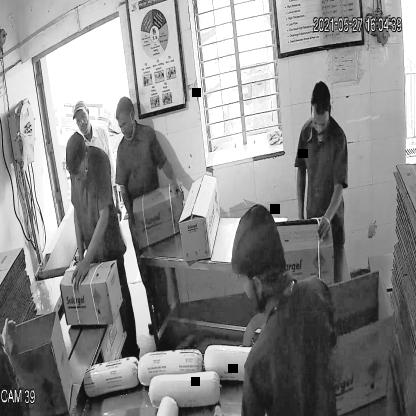no_goggles: (69, 107, 98, 128)
